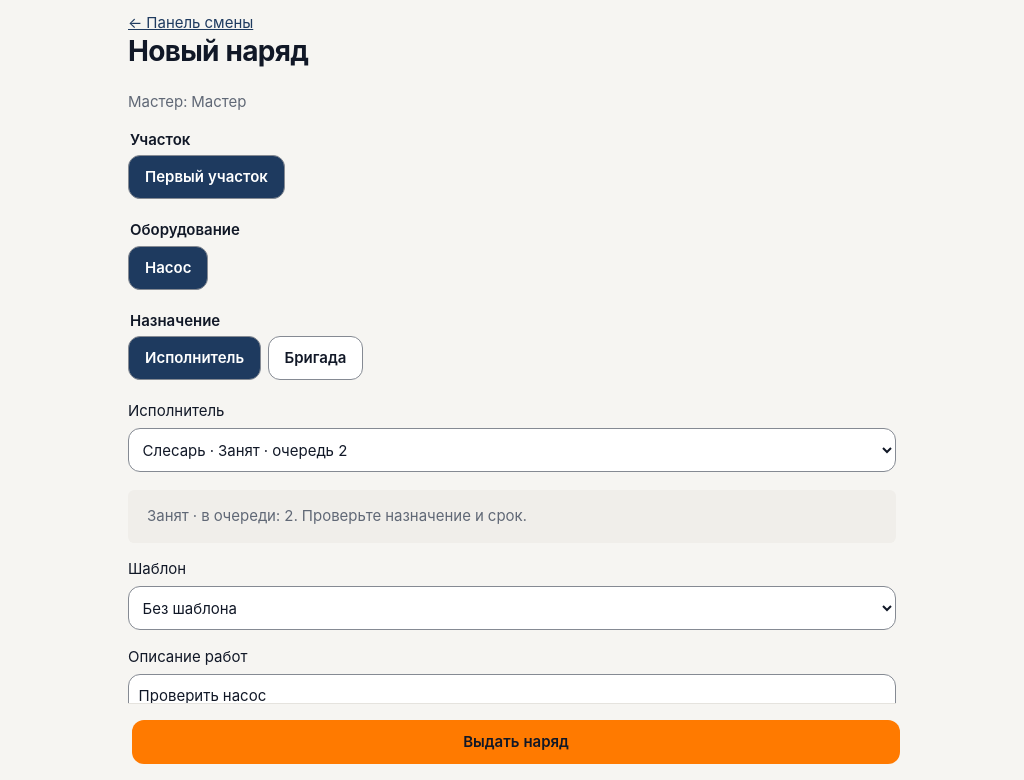
it: requires and sends a responsible worker for a brigade
Earlier steps of the test are not shown.
Later steps or results of the test are not shown.
Click the button "Бригада" at {"x": 315, "y": 358}, box [268, 336, 363, 380]
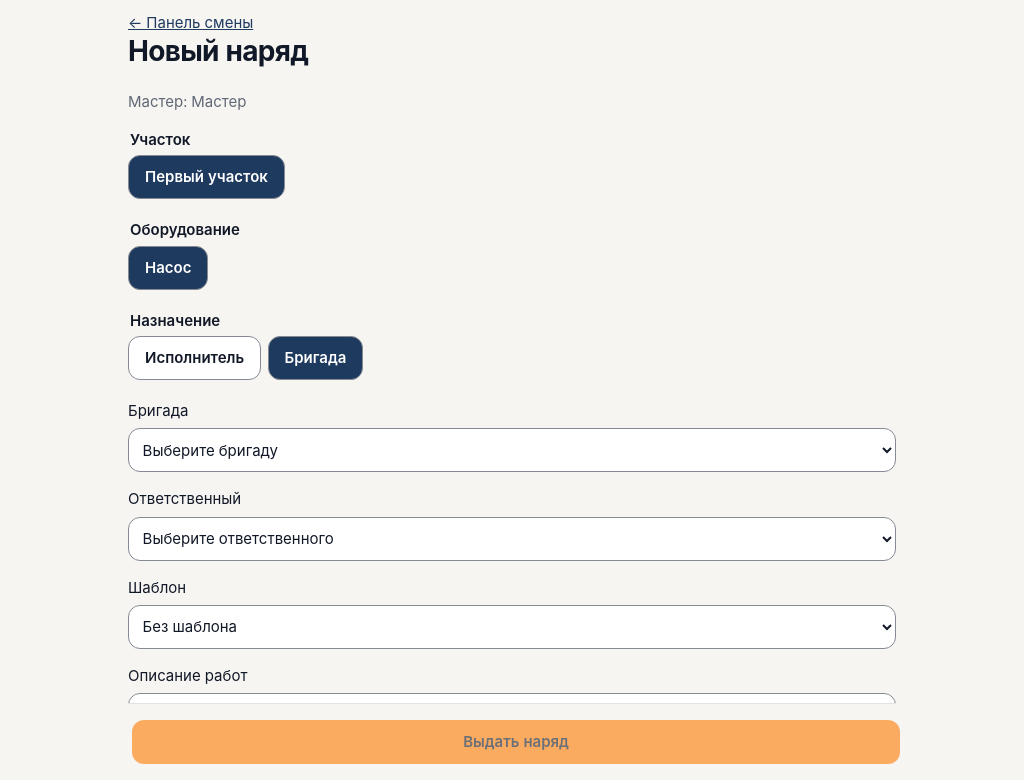
Select "Бригада 1" in the dropdown labelled "Бригада" at {"x": 512, "y": 450}, box [128, 428, 896, 472]
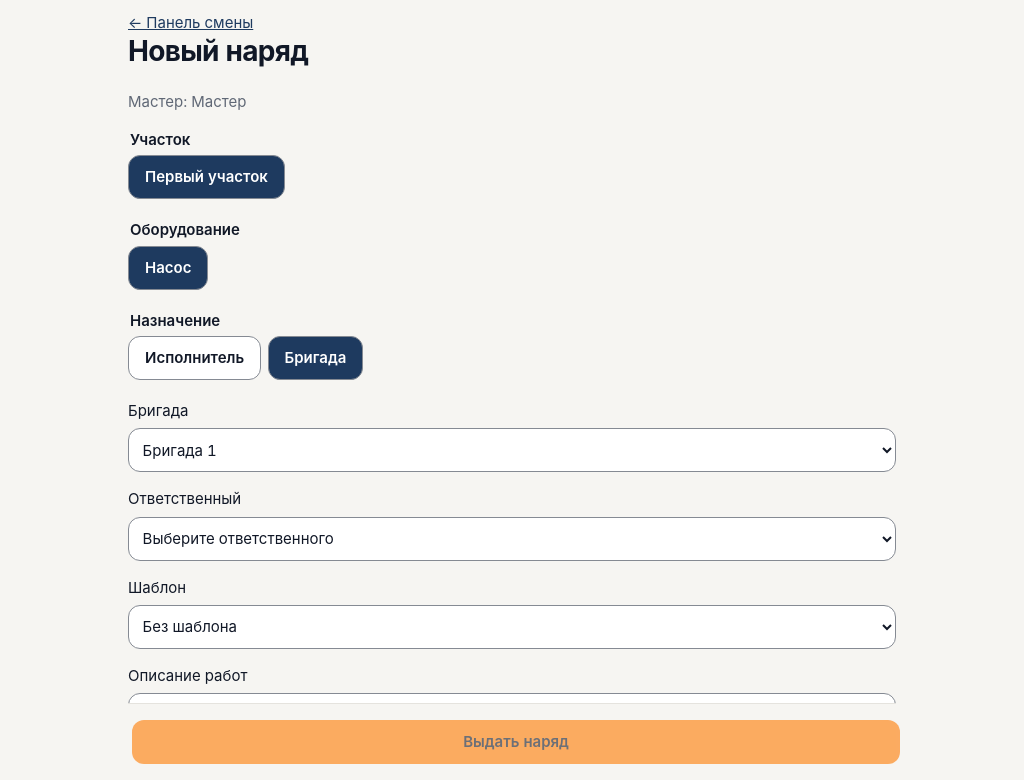
Now the button "Выдать наряд" is disabled, box [132, 720, 900, 764]
